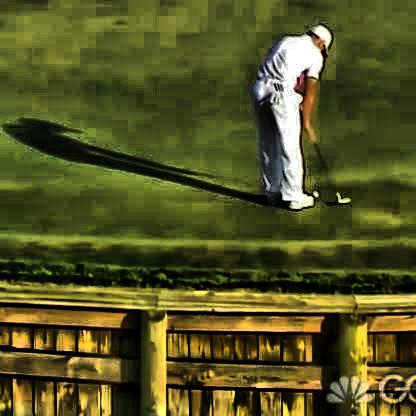golfball: (309, 184, 319, 195)
